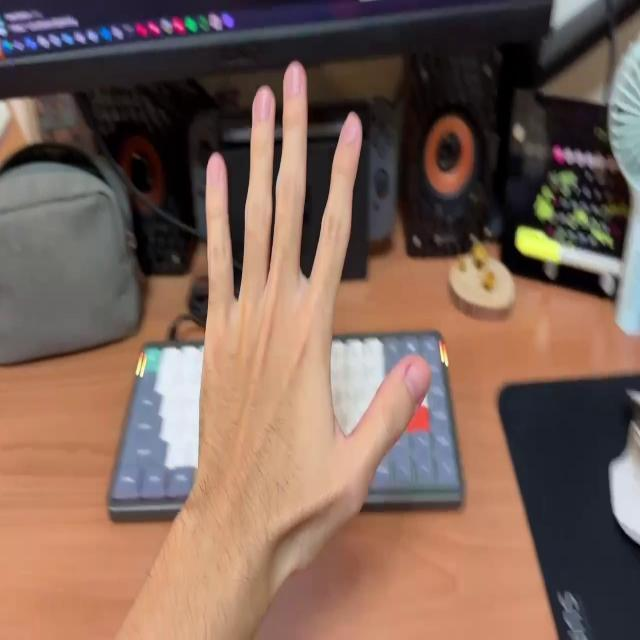keyboard-with-hands: (111, 335, 463, 502)
